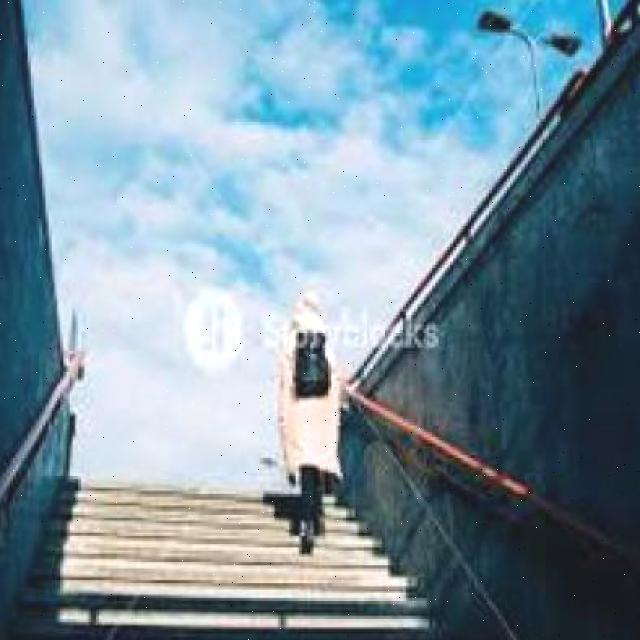stair: (41, 476, 413, 640)
